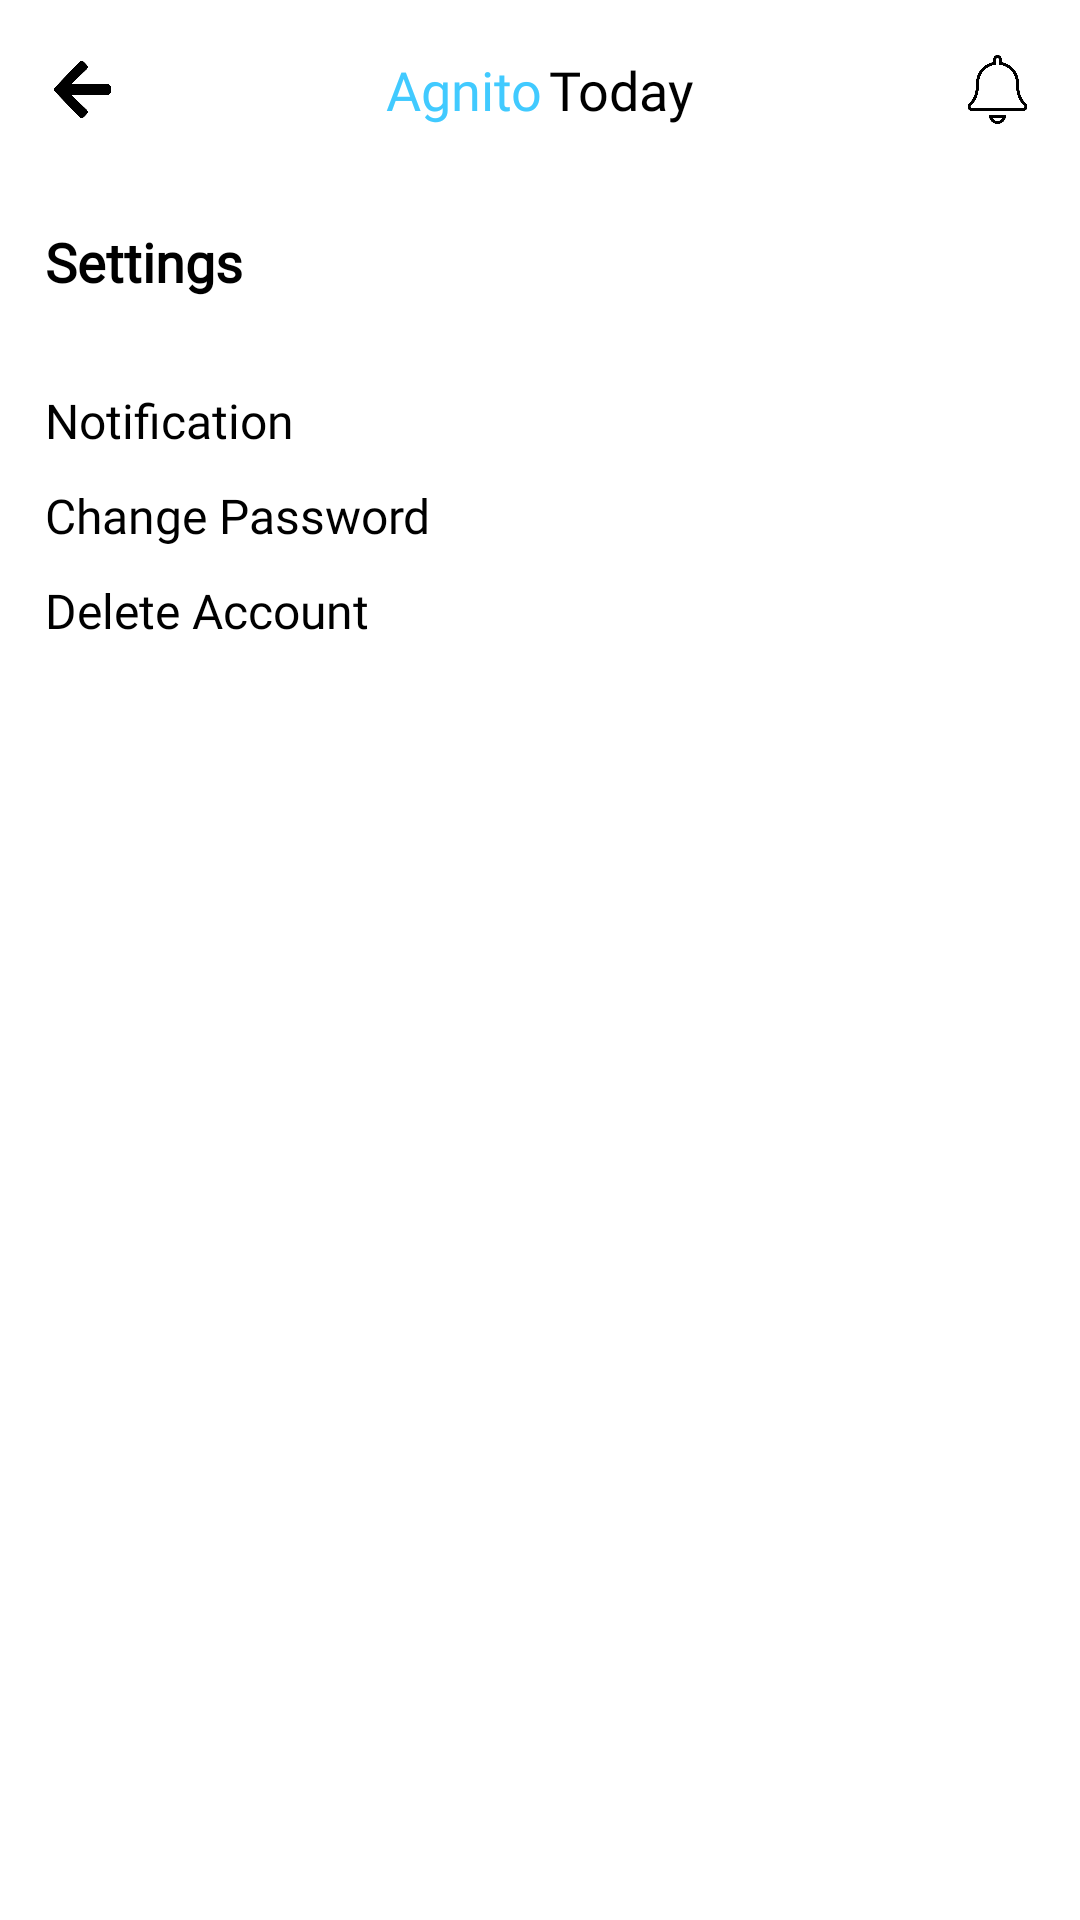

Icons on this 1080px x 1920px Android screen, each with the point to tap as (x,y):
arrow left: (82,89)
notification: (997,89)
